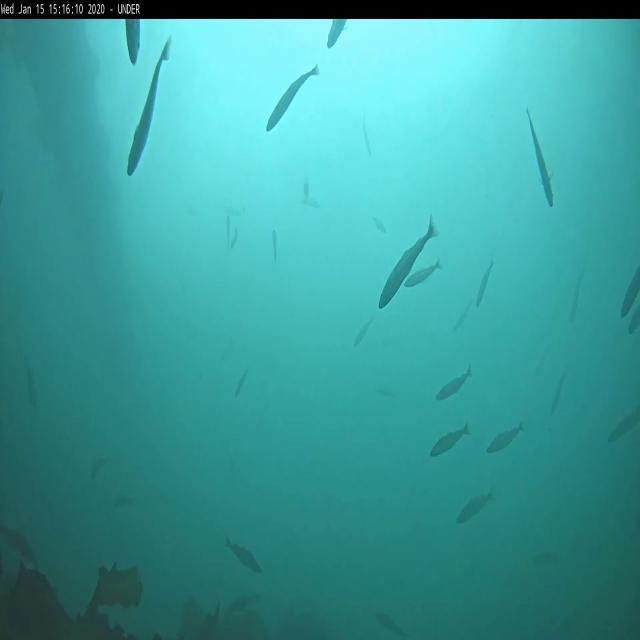fish: (125, 39, 173, 178), (378, 215, 437, 309), (264, 63, 317, 133), (526, 109, 554, 209), (456, 489, 492, 526), (430, 424, 470, 456), (226, 538, 261, 574), (435, 367, 473, 400), (486, 424, 524, 452), (403, 260, 441, 287), (610, 408, 638, 441), (622, 266, 639, 318), (476, 259, 494, 306), (124, 19, 141, 66), (454, 298, 476, 332), (354, 316, 377, 348), (23, 362, 36, 414), (570, 278, 584, 324), (550, 376, 566, 413), (374, 614, 402, 635), (328, 20, 347, 47), (234, 368, 248, 396), (362, 120, 372, 154), (629, 308, 639, 334), (373, 212, 385, 232), (226, 217, 230, 255), (272, 228, 276, 263), (232, 226, 238, 248)
